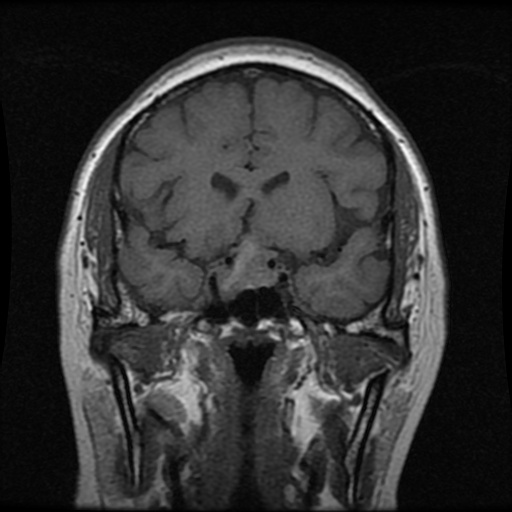pituitary: (217, 241, 277, 301)
